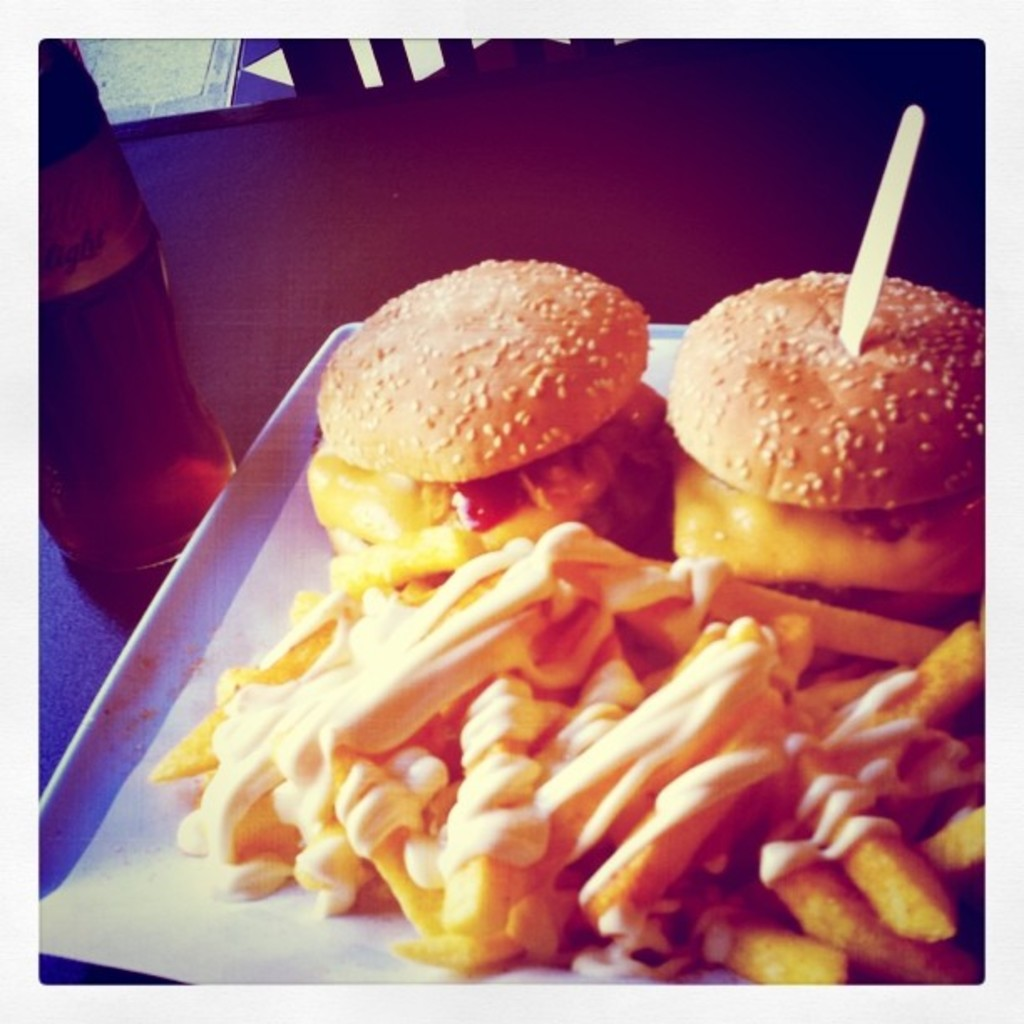French fries: (142, 515, 988, 1003)
